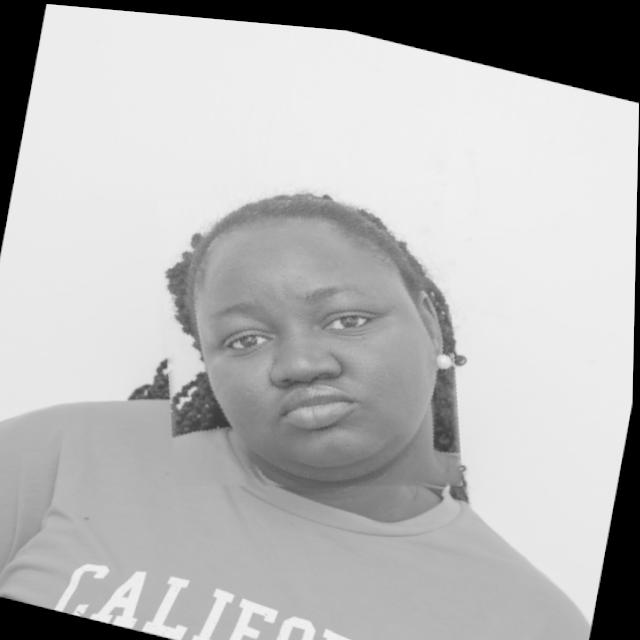sad: (127, 144, 496, 530)
